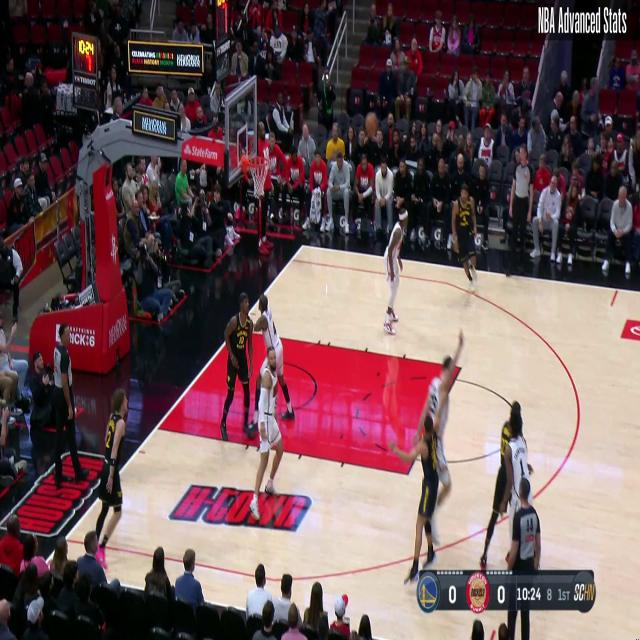ball: (364, 110, 381, 139)
judge: (51, 326, 92, 477), (505, 474, 541, 640), (508, 146, 534, 278)
player: (395, 401, 446, 586), (478, 400, 525, 576), (480, 404, 530, 567), (424, 345, 460, 541), (252, 293, 298, 425), (250, 345, 283, 514), (94, 388, 127, 549), (220, 292, 254, 440), (449, 186, 484, 292), (451, 180, 479, 300), (380, 215, 405, 327)
